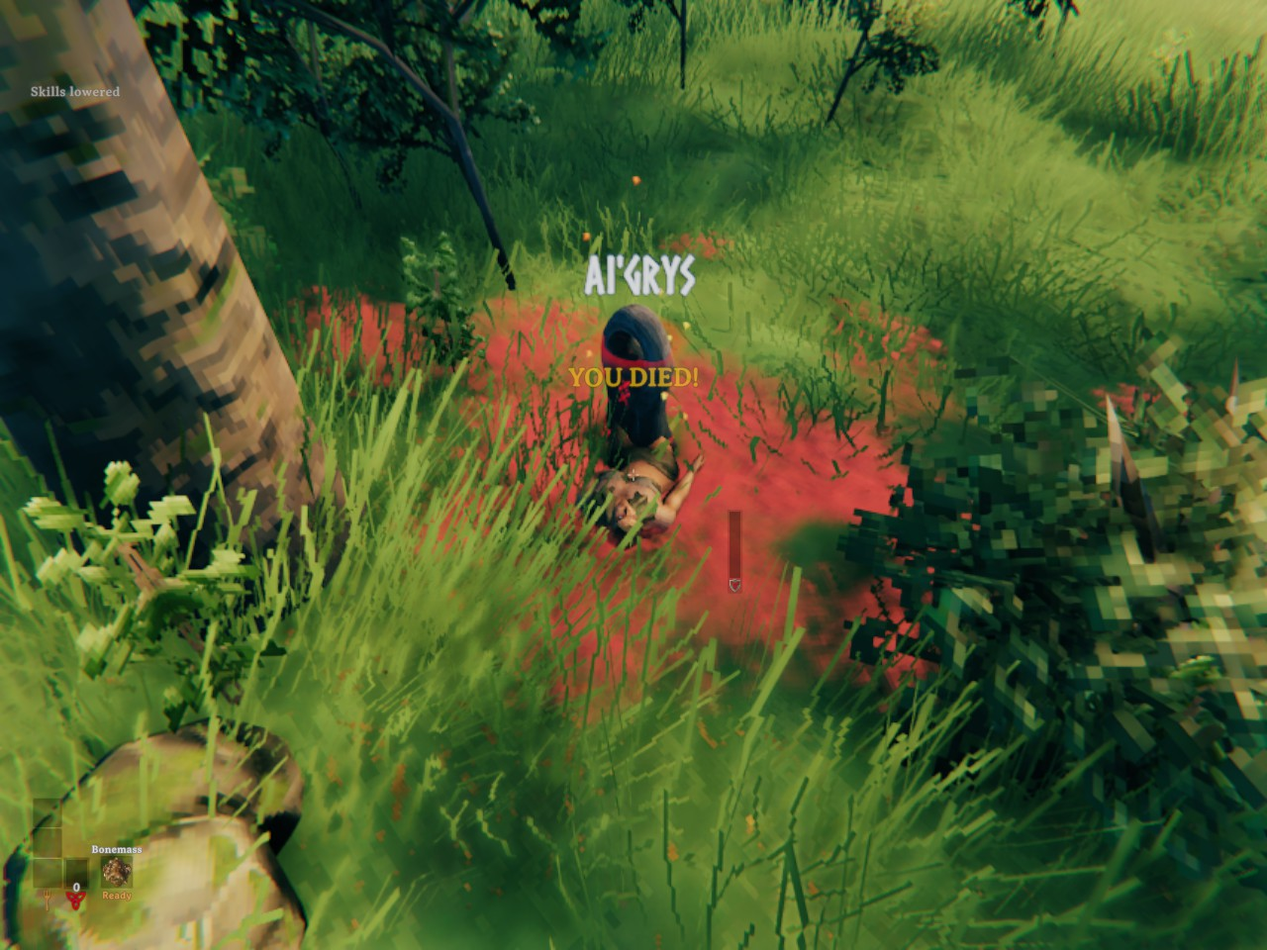Death: (568, 364, 703, 391)
Gravestone: (601, 304, 673, 446)
